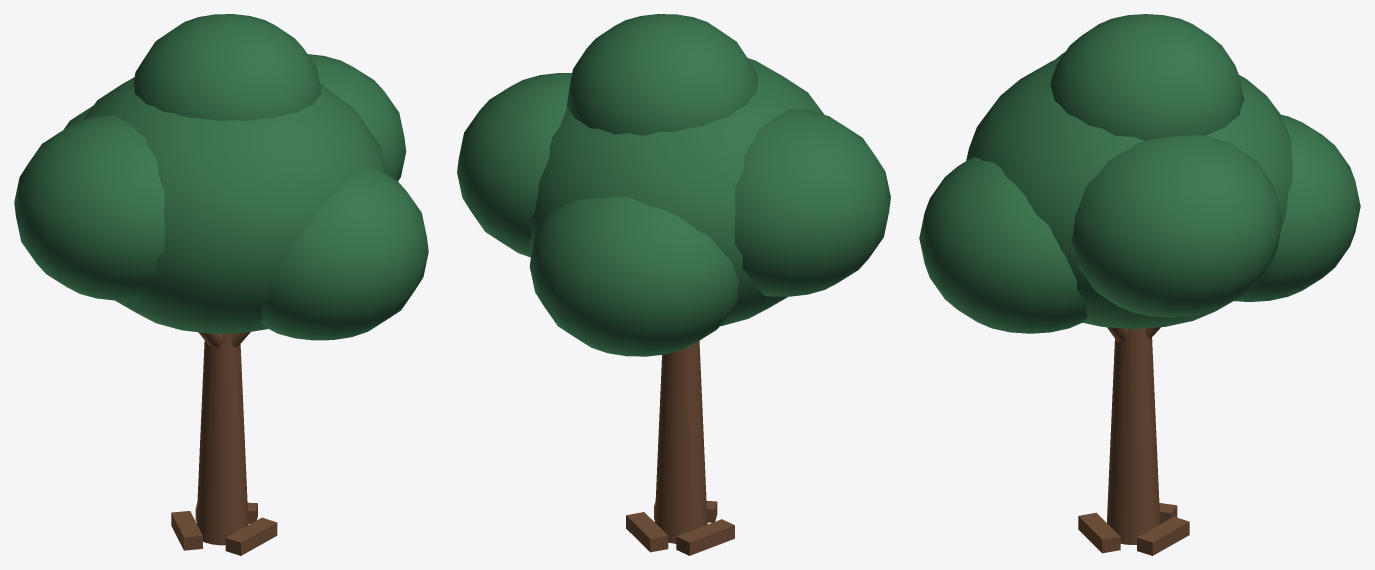
Rendered from oak-tree-lod0.glb.
The picture shows the model from 3 angles, left to right: view 1: azimuth 30°, elevation 25°; view 2: azimuth 150°, elevation 25°; view 3: azimuth 270°, elevation 25°; orthographic projection. The views are drawn at different scales.
Parts seen in each view (by area): view 1: canopy-core, canopy-3, canopy-0, canopy-top, trunk, canopy-1, root-0, root-2; view 2: canopy-2, canopy-3, canopy-core, canopy-top, canopy-1, trunk, root-2, root-1; view 3: canopy-1, canopy-core, canopy-0, canopy-top, canopy-2, trunk, root-1, root-0.
Part boxes in pixels (x1,y1,x2,y2): canopy-core: [83, 77, 386, 333]; canopy-3: [14, 115, 164, 300]; canopy-0: [260, 168, 428, 340]; canopy-top: [133, 14, 321, 121]; trunk: [196, 333, 248, 545]; canopy-1: [307, 54, 406, 180]; root-0: [225, 517, 277, 555]; root-2: [171, 511, 202, 550]; canopy-2: [529, 196, 738, 356]; canopy-3: [735, 109, 890, 296]; canopy-core: [529, 58, 823, 326]; canopy-top: [566, 14, 758, 135]; canopy-1: [457, 73, 571, 257]; trunk: [654, 341, 707, 543]; root-2: [676, 519, 734, 555]; root-1: [626, 512, 668, 552]; canopy-1: [1072, 135, 1282, 317]; canopy-core: [966, 57, 1292, 328]; canopy-0: [919, 157, 1087, 333]; canopy-top: [1050, 14, 1244, 140]; canopy-2: [1234, 115, 1360, 301]; trunk: [1107, 328, 1160, 544]; root-1: [1137, 516, 1189, 555]; root-0: [1078, 512, 1120, 553].
Bounding box in the file's own units: 3.65 × 4.6 × 3.57.
